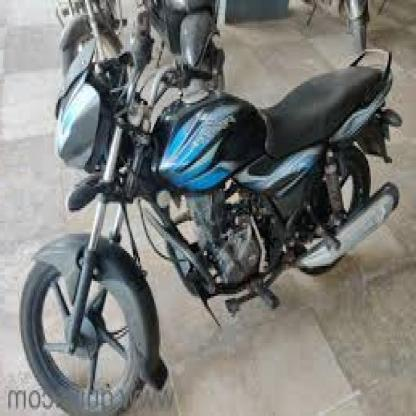bike: (20, 45, 404, 414)
